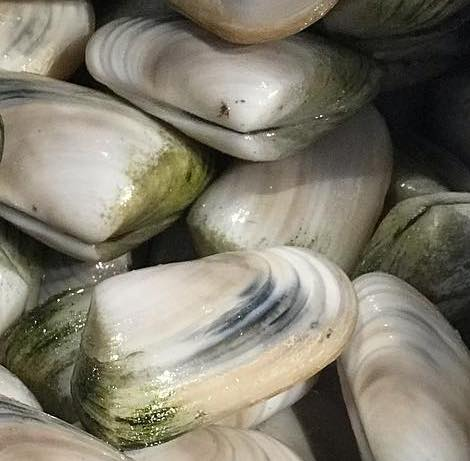tuatua: (76, 243, 360, 427), (84, 14, 375, 164), (1, 67, 206, 260), (196, 101, 392, 271), (345, 271, 470, 454), (357, 190, 470, 308)
